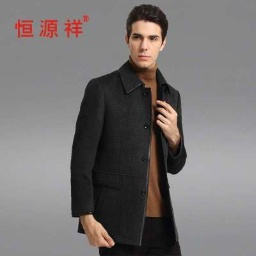face: (124, 3, 169, 68)
